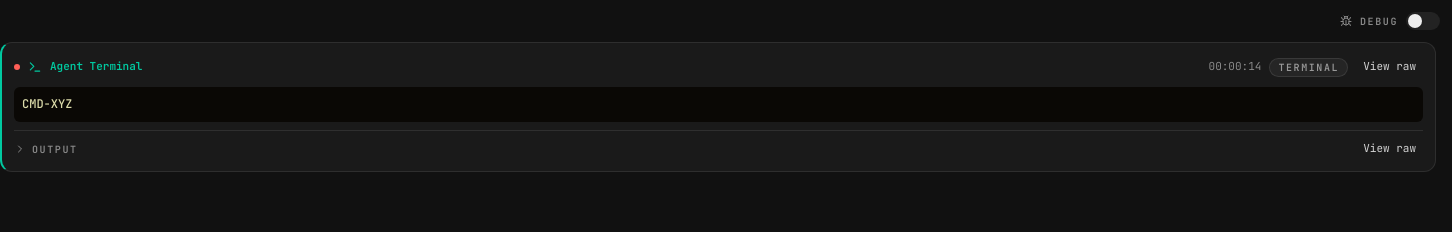
Test: ReplayTimeline › merges command + output even when group_id is absent (headless traces)
Click the button "output": (46, 149) [14, 143, 78, 156]
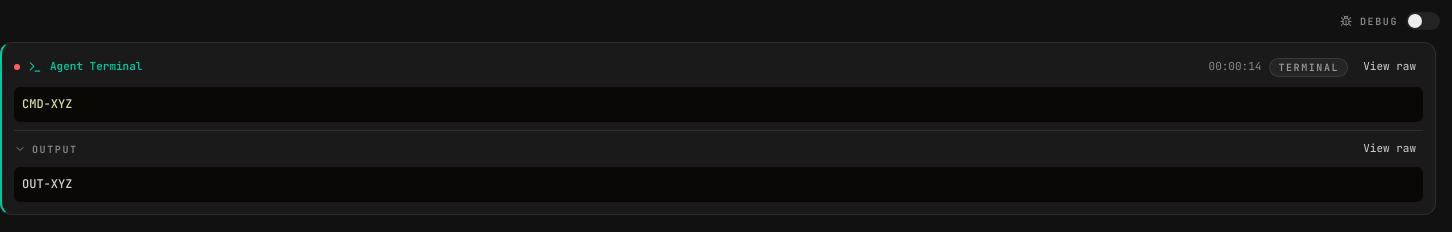
Expected: the text "OUT-XYZ" is shown, [14, 167, 1423, 202]
